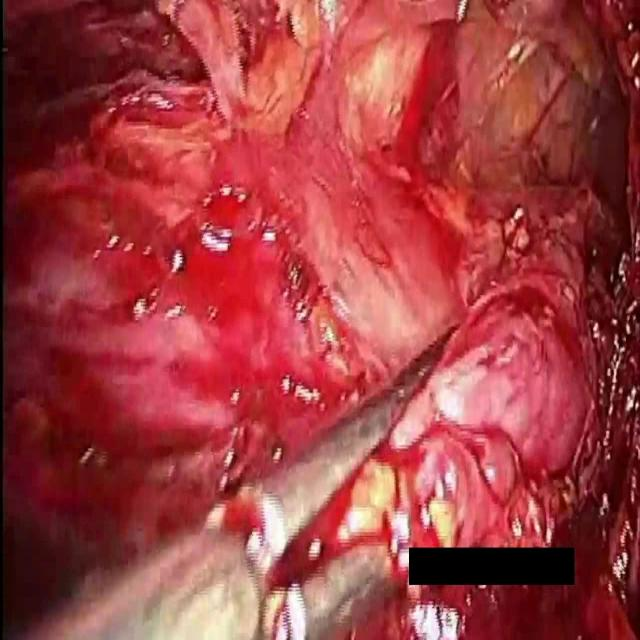surgical-area: (388, 538, 640, 639)
surgical-tool: (20, 316, 467, 639)
